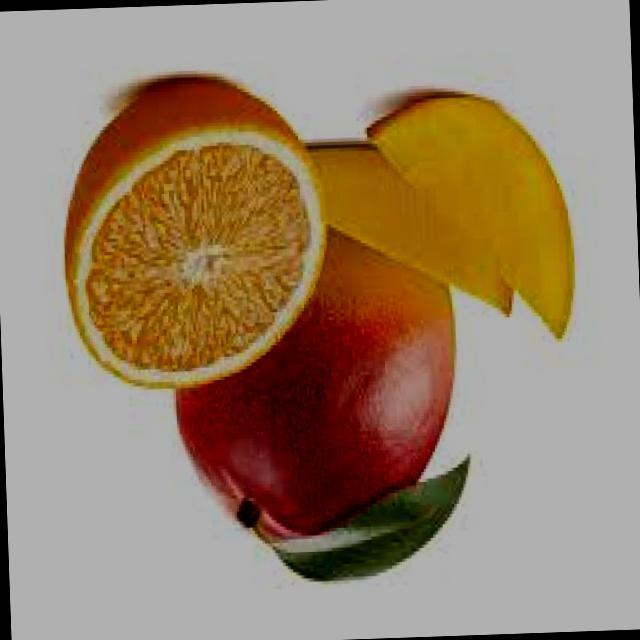Mango: (172, 230, 468, 553), (365, 85, 579, 346), (306, 138, 514, 328)
Orange: (58, 74, 332, 393)
